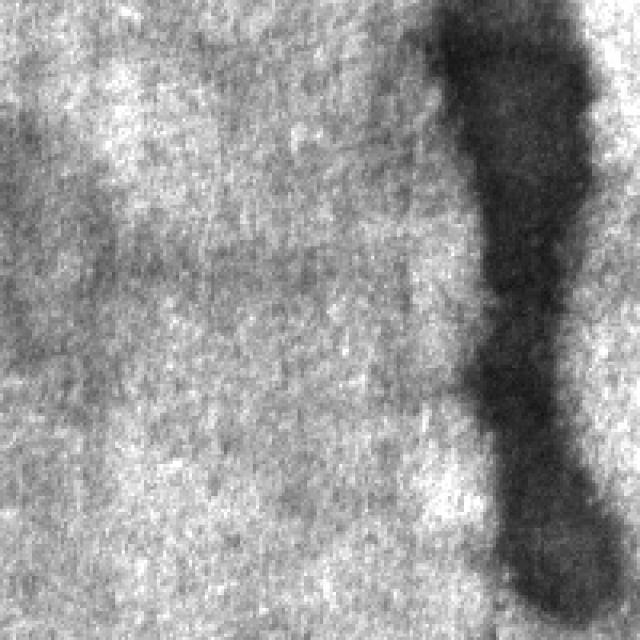patches: (428, 0, 611, 614)
